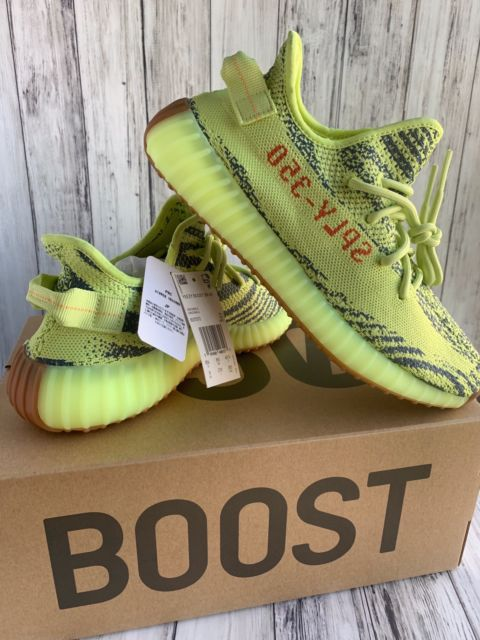Yeezy Semi-Frozen: (137, 18, 480, 433), (7, 188, 299, 437)
